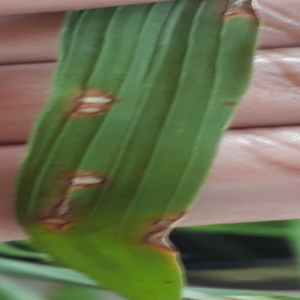Rice_Blast: (141, 209, 191, 263), (52, 157, 123, 195), (206, 81, 248, 124), (61, 78, 123, 107), (62, 102, 114, 125), (40, 214, 76, 240), (39, 191, 71, 220), (225, 1, 265, 24)
